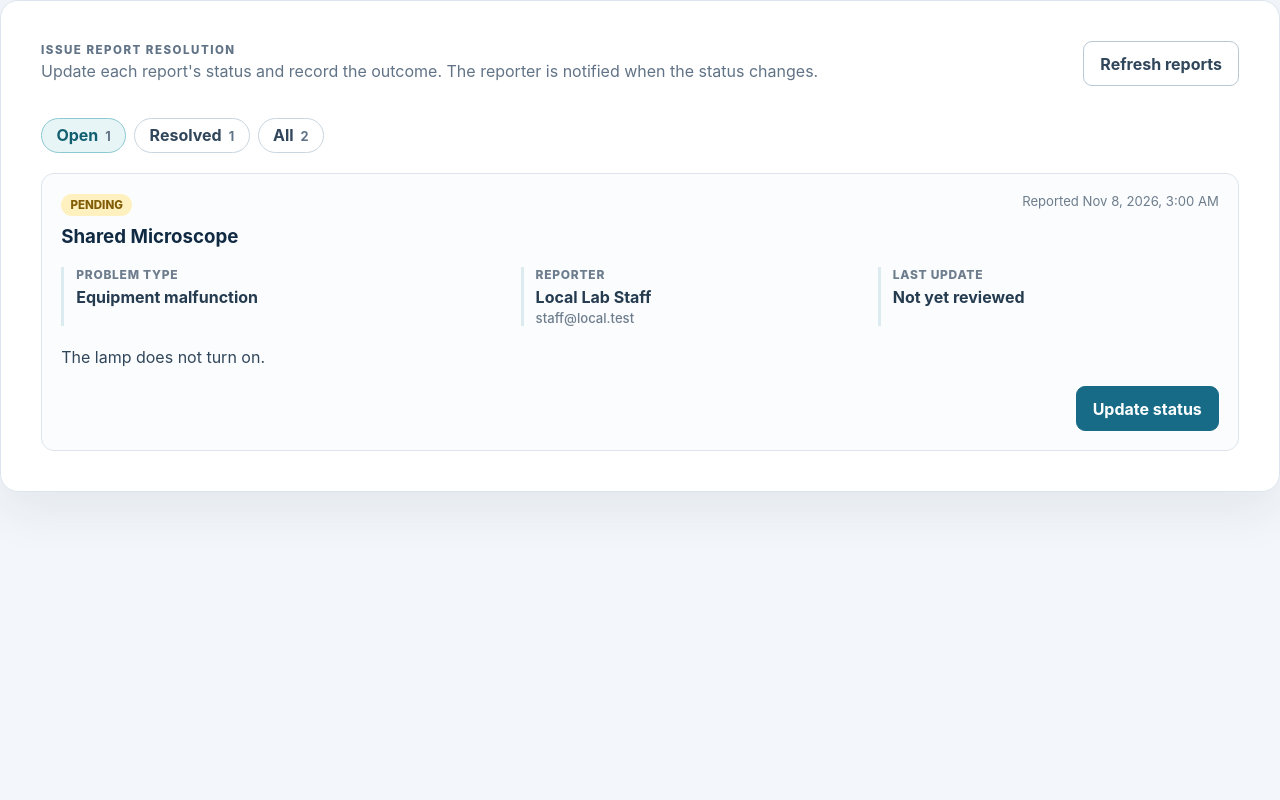
Test: IssueReportReview › requires a resolution note before marking a report resolved
The width and height of the screenshot is (1280, 800).
Step 1. Click the button with aria-label "update shared microscope report" → (1147, 409), box [1076,386,1219,431]
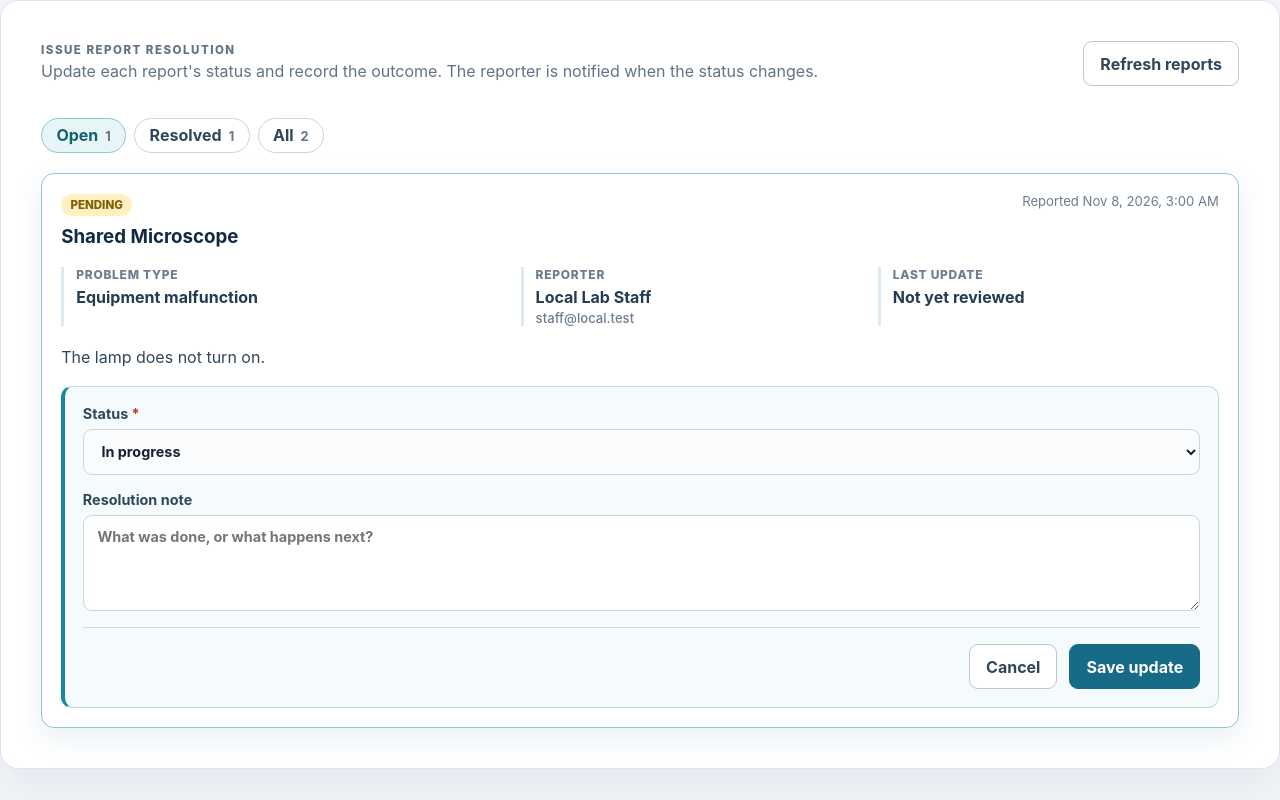
Step 2. Select "Resolved" in the dropdown labelled "Status *" → (642, 452), box [83,429,1200,475]
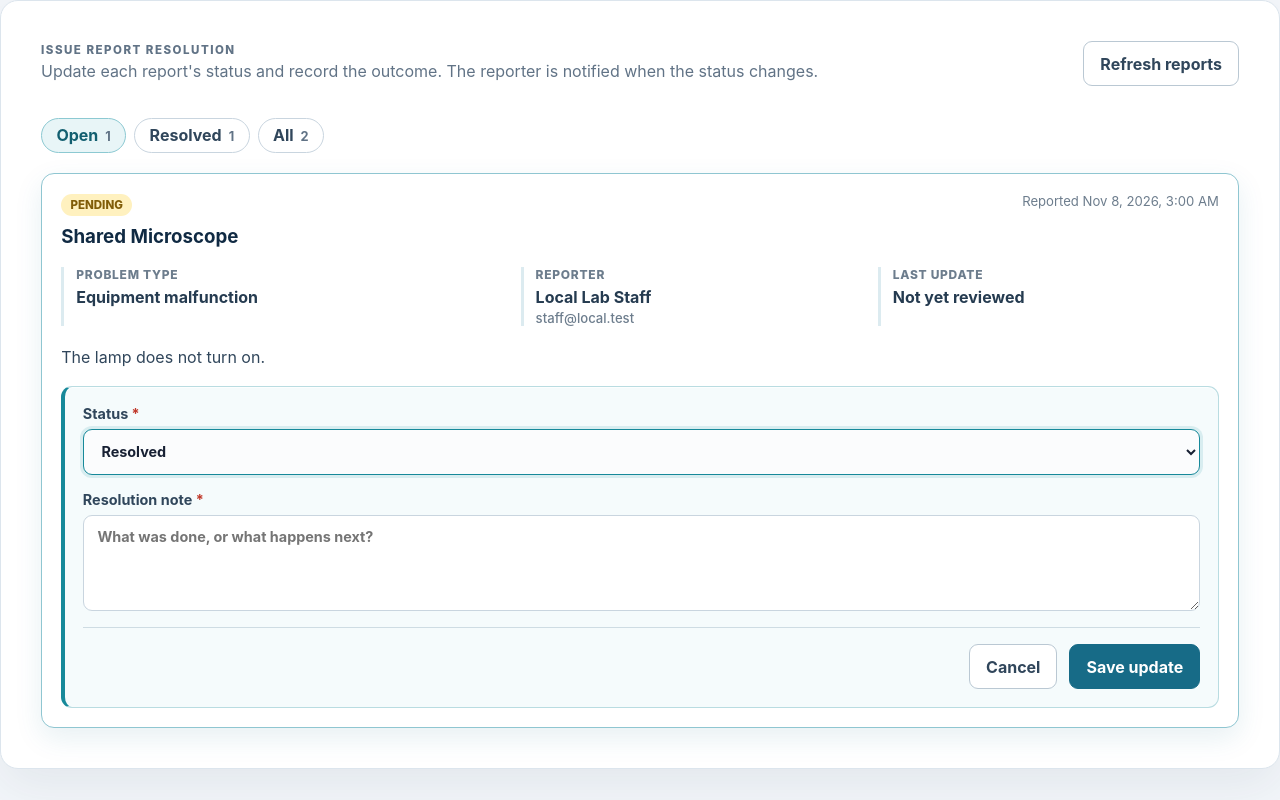
Step 3. Click the button "Save update" → (1135, 666), box [1069,644,1200,689]
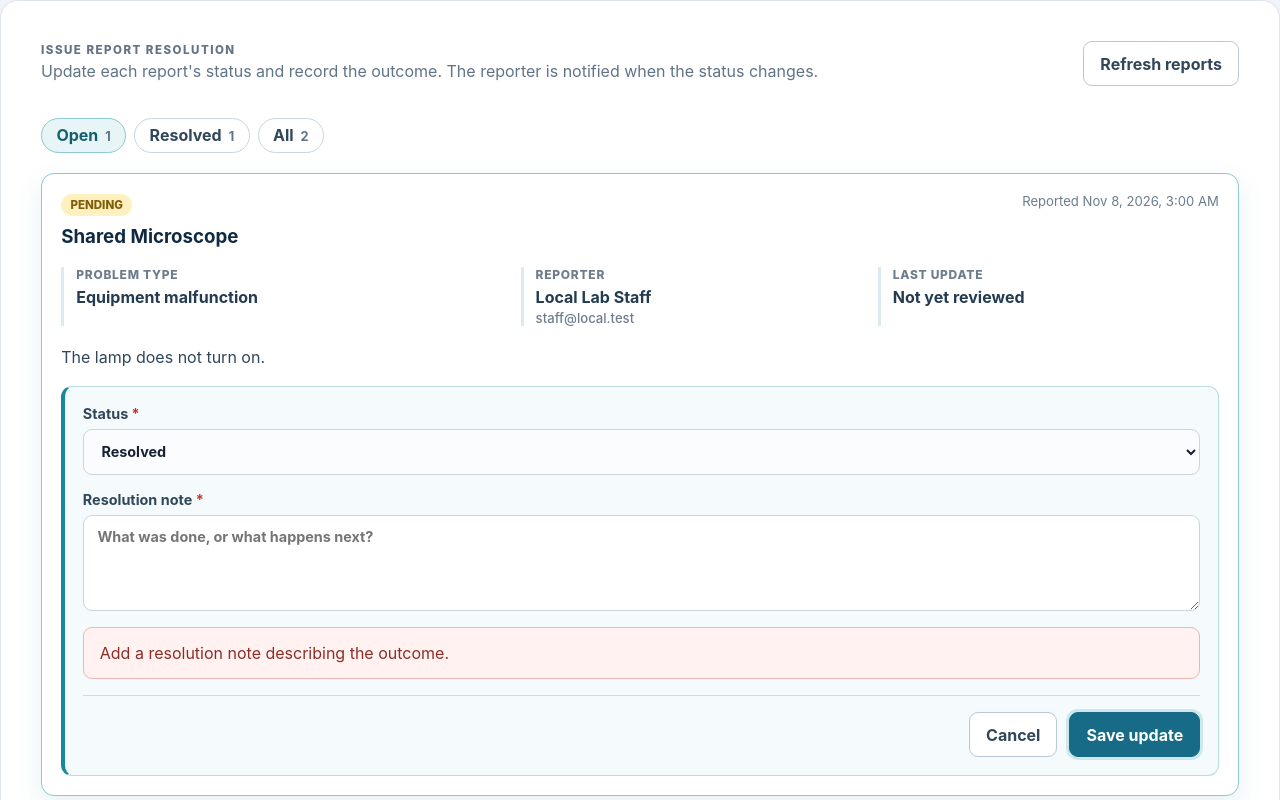
Expected: the message shows "Add a resolution note", [100,643,449,663]
